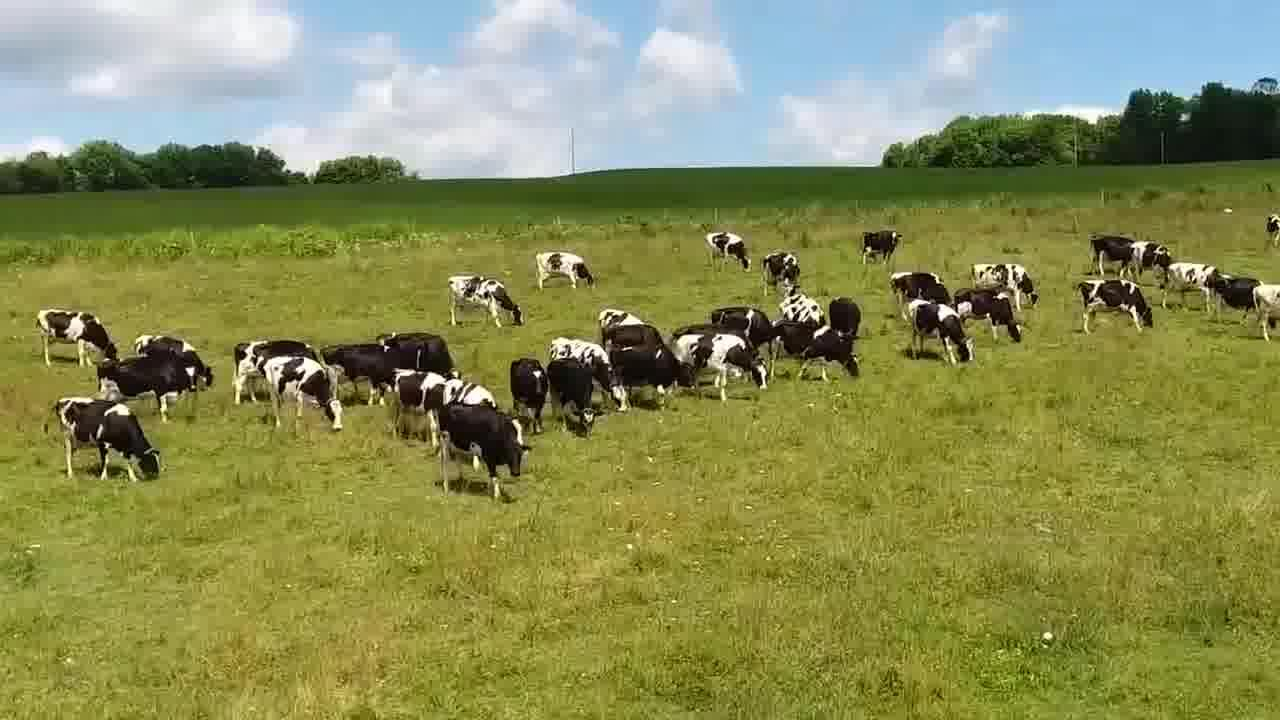cow: (43, 393, 167, 487), (434, 398, 534, 506), (668, 328, 774, 409), (94, 351, 200, 425), (259, 352, 348, 435), (548, 333, 632, 417), (605, 341, 698, 412), (228, 336, 323, 403), (320, 338, 405, 410), (902, 294, 979, 369), (775, 322, 865, 385), (33, 305, 121, 367), (442, 271, 534, 329), (1072, 276, 1160, 335), (385, 363, 442, 451), (133, 331, 219, 388), (949, 287, 1026, 344), (546, 357, 598, 440), (1157, 257, 1229, 314), (505, 355, 552, 434), (383, 326, 459, 373), (967, 260, 1042, 306), (536, 251, 601, 290), (597, 305, 660, 345), (760, 245, 819, 287), (704, 227, 755, 275), (859, 222, 906, 270), (1089, 232, 1138, 278), (1221, 268, 1259, 325), (710, 303, 772, 337), (890, 266, 951, 299), (1125, 239, 1181, 273), (1251, 276, 1280, 339), (779, 290, 831, 325), (835, 296, 861, 337), (1262, 210, 1280, 258)
